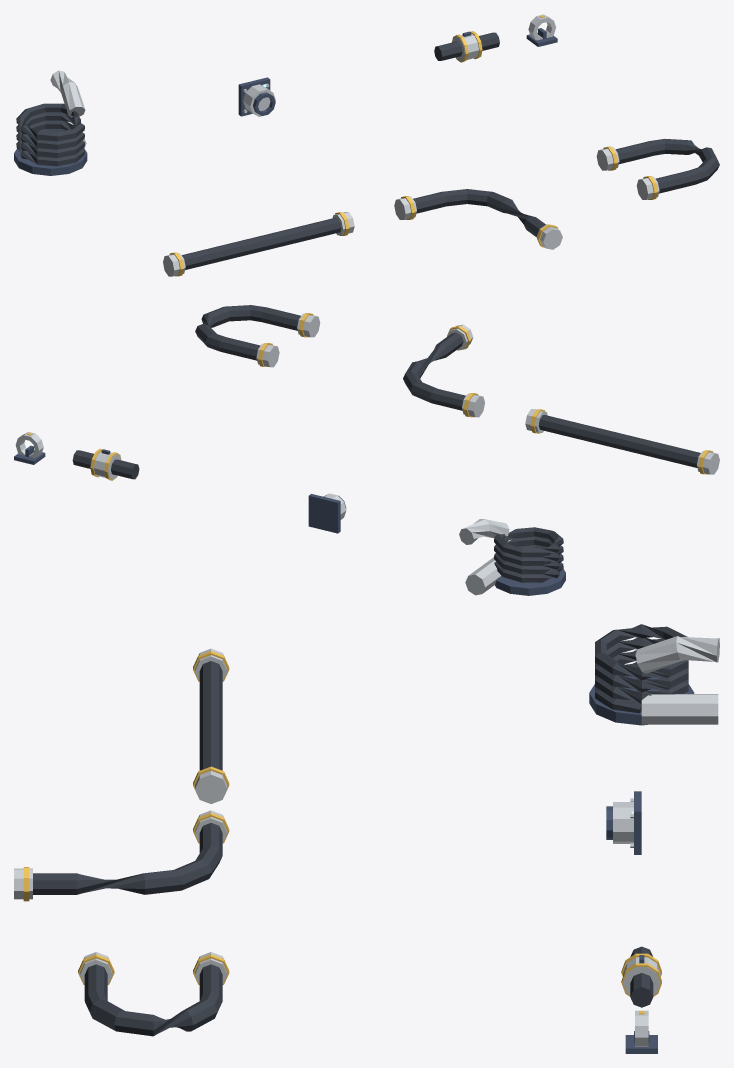
3 views of the same model, one above another, from view 1: azimuth 30°, elevation 25°; view 2: azimuth 150°, elevation 25°; view 3: azimuth 270°, elevation 25° (orthographic). The views are drawn at different scales.
Visible parts, largest first — view 1: DL016_CableKit_rubber_dark, DL016_CableKit_titanium, DL016_CableKit_graphite_navy, DL016_CableKit_amber_accent; view 2: DL016_CableKit_rubber_dark, DL016_CableKit_titanium, DL016_CableKit_graphite_navy, DL016_CableKit_amber_accent; view 3: DL016_CableKit_rubber_dark, DL016_CableKit_titanium, DL016_CableKit_graphite_navy, DL016_CableKit_amber_accent.
Part boxes in pixels (<box>): DL016_CableKit_rubber_dark: <box>16,32,719,269</box>; DL016_CableKit_titanium: <box>50,14,659,276</box>; DL016_CableKit_graphite_navy: <box>14,28,557,175</box>; DL016_CableKit_amber_accent: <box>169,15,657,276</box>; DL016_CableKit_rubber_dark: <box>72,305,700,582</box>; DL016_CableKit_titanium: <box>15,313,719,595</box>; DL016_CableKit_graphite_navy: <box>14,445,565,595</box>; DL016_CableKit_amber_accent: <box>27,313,713,480</box>; DL016_CableKit_rubber_dark: <box>33,624,688,1036</box>; DL016_CableKit_titanium: <box>14,636,719,1046</box>; DL016_CableKit_graphite_navy: <box>589,676,694,1053</box>; DL016_CableKit_amber_accent: <box>23,651,661,1014</box>.
Size of the model in its own units: 9.26 by 1.06 by 7.38.
